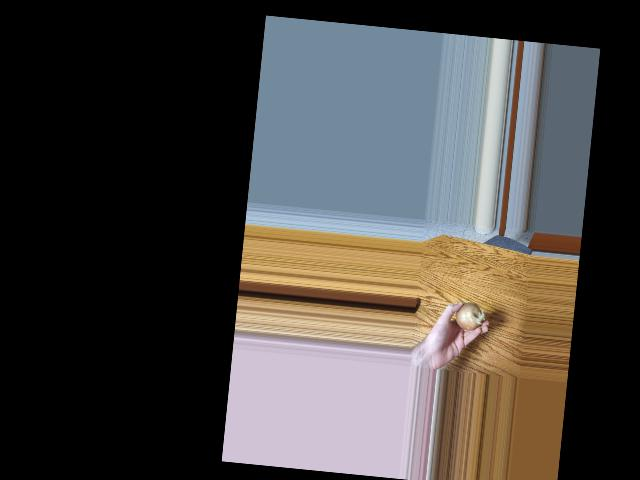onion: (453, 301, 482, 333)
